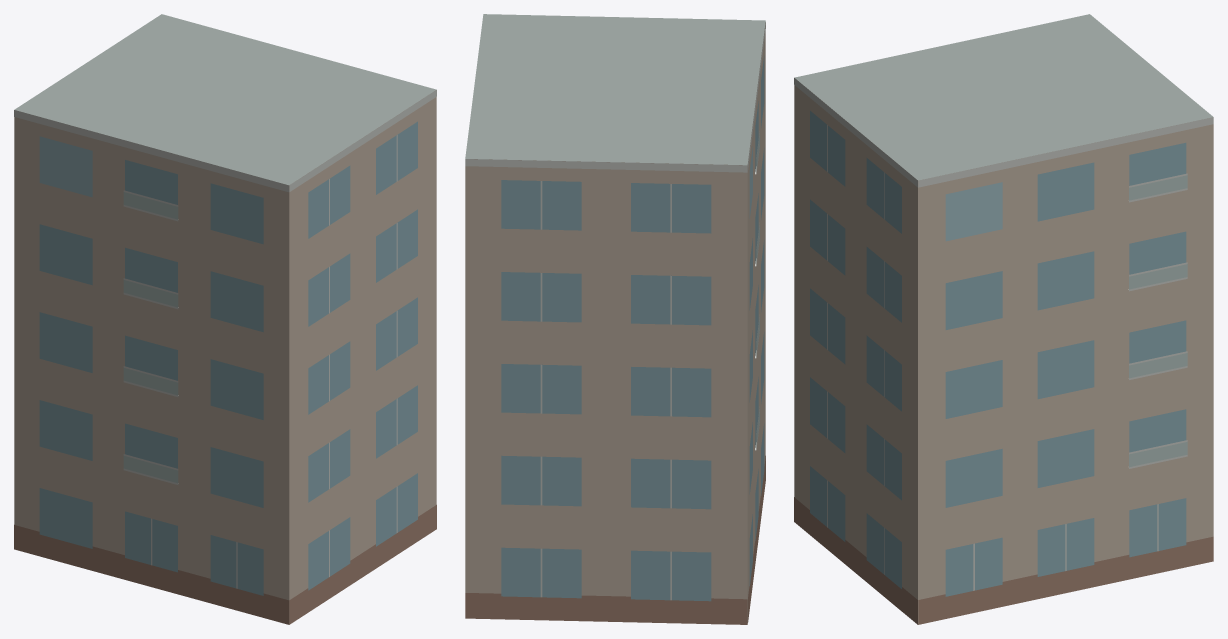
File: residential-07f7af58-f02c-45f2-9e90-36e3bf46f5b3.glb
The picture shows the model from 3 angles, left to right: view 1: azimuth 30°, elevation 25°; view 2: azimuth 150°, elevation 25°; view 3: azimuth 270°, elevation 25°; orthographic projection. The views are drawn at different scales.
Visible parts, largest first — view 1: residential-07f7af58-f02c-45f2-9e90-36e3bf46f5b3.tmp; view 2: residential-07f7af58-f02c-45f2-9e90-36e3bf46f5b3.tmp; view 3: residential-07f7af58-f02c-45f2-9e90-36e3bf46f5b3.tmp.
Part boxes in pixels (<box>): residential-07f7af58-f02c-45f2-9e90-36e3bf46f5b3.tmp: <box>14,14,436,624</box>; residential-07f7af58-f02c-45f2-9e90-36e3bf46f5b3.tmp: <box>465,14,765,624</box>; residential-07f7af58-f02c-45f2-9e90-36e3bf46f5b3.tmp: <box>794,14,1213,624</box>.
Bounding box in the file's own units: 12.27 × 15.25 × 13.06.
